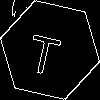T: (25, 25, 65, 77)
